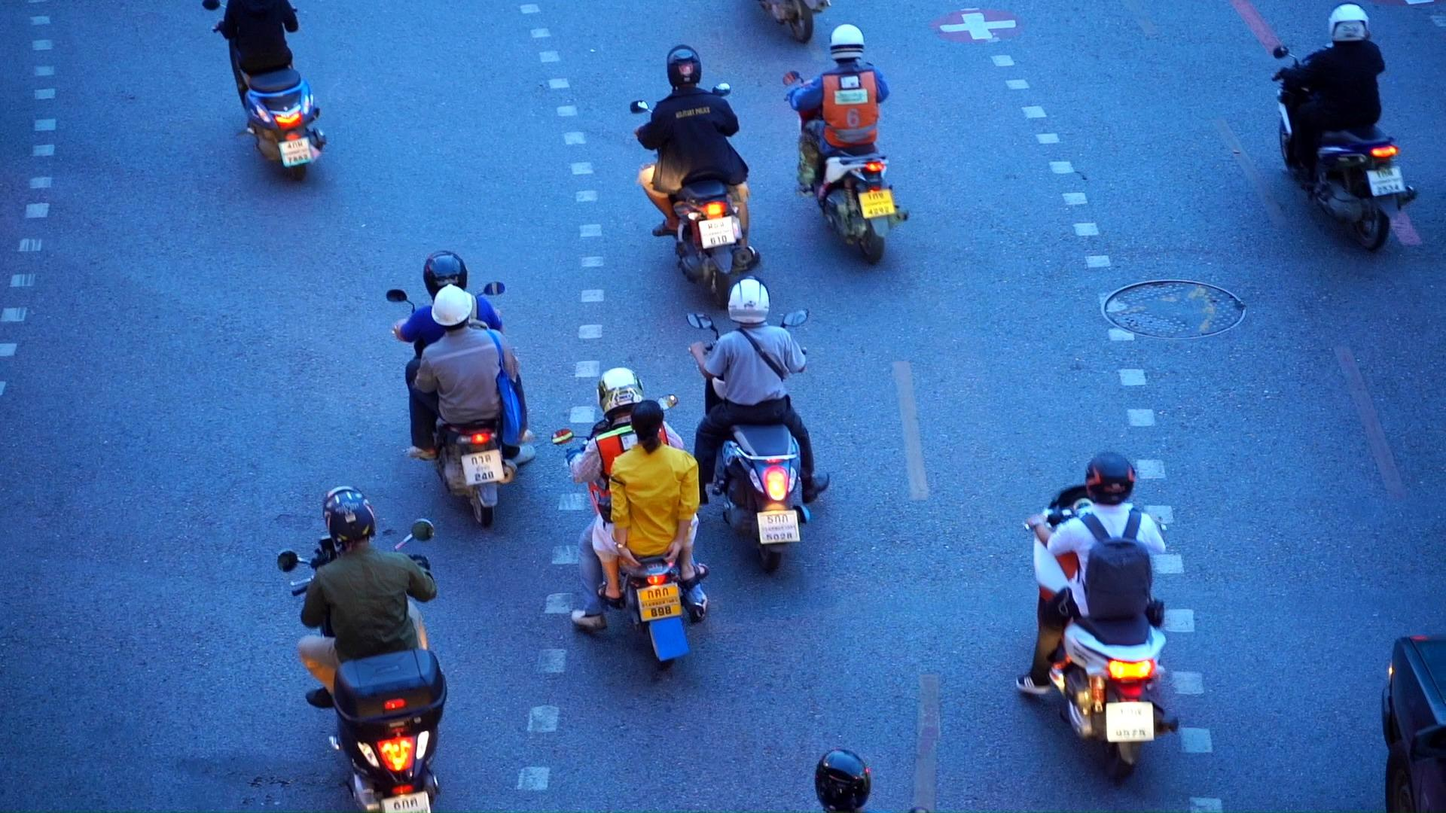driver: (277, 484, 449, 813), (1014, 453, 1179, 782), (551, 367, 711, 672), (684, 273, 830, 575), (386, 249, 536, 526), (1272, 1, 1417, 251), (630, 44, 760, 311), (783, 23, 910, 266), (202, 0, 326, 182)
helmet: (322, 485, 377, 552), (816, 749, 872, 813), (1086, 452, 1135, 506), (599, 367, 645, 423), (424, 250, 468, 304), (727, 273, 770, 325), (431, 284, 473, 332), (1328, 1, 1370, 44), (666, 44, 701, 93), (829, 23, 865, 61)
no-helmet: (630, 400, 663, 455)
